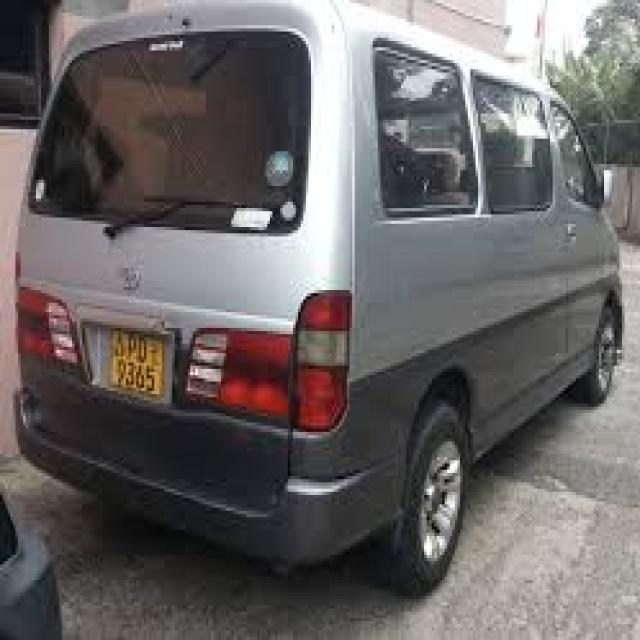tractor: (32, 175, 613, 538), (114, 66, 324, 218), (0, 158, 74, 310)
